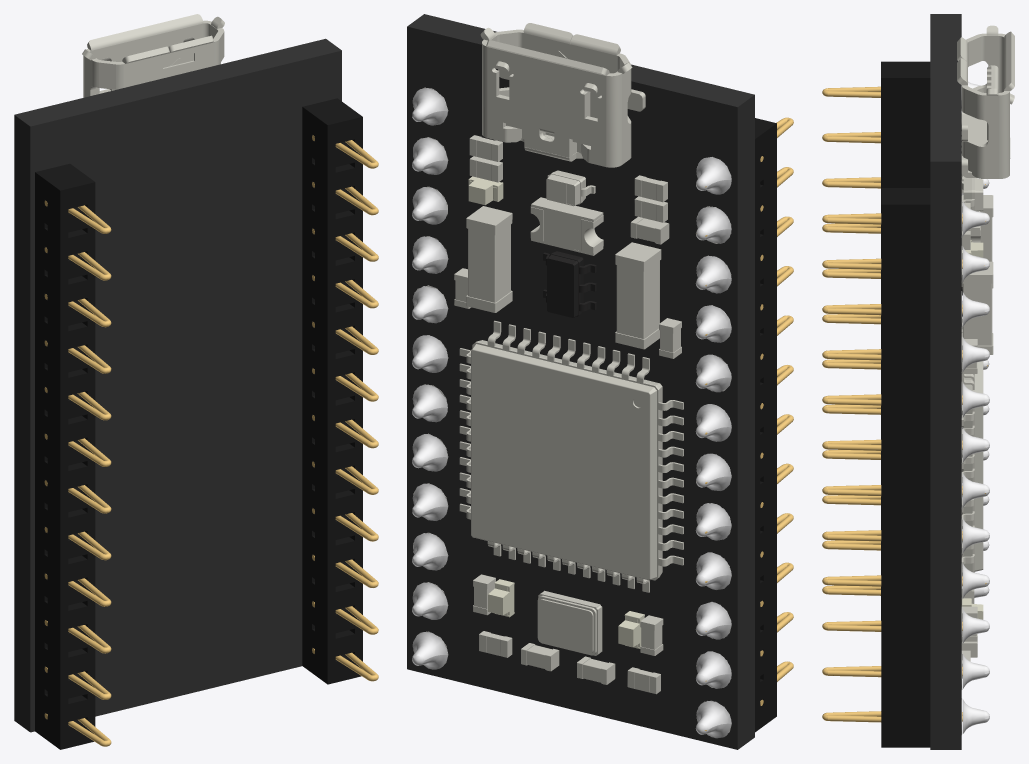
The model's file is ProMicro.glb.
The picture shows the model from 3 angles, left to right: view 1: azimuth 30°, elevation 25°; view 2: azimuth 150°, elevation 25°; view 3: azimuth 270°, elevation 25°; orthographic projection. The views are drawn at different scales.
Size of the model in its own units: 17.78 by 34.74 by 9.8.
